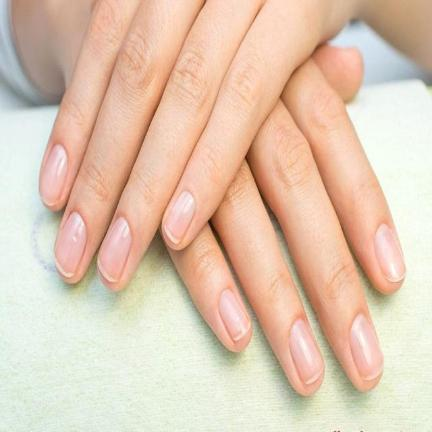Nail: (289, 319, 324, 385), (350, 314, 384, 381), (97, 217, 131, 283), (53, 212, 87, 278), (374, 224, 407, 283), (218, 289, 251, 342), (40, 144, 68, 206), (164, 191, 195, 245)
